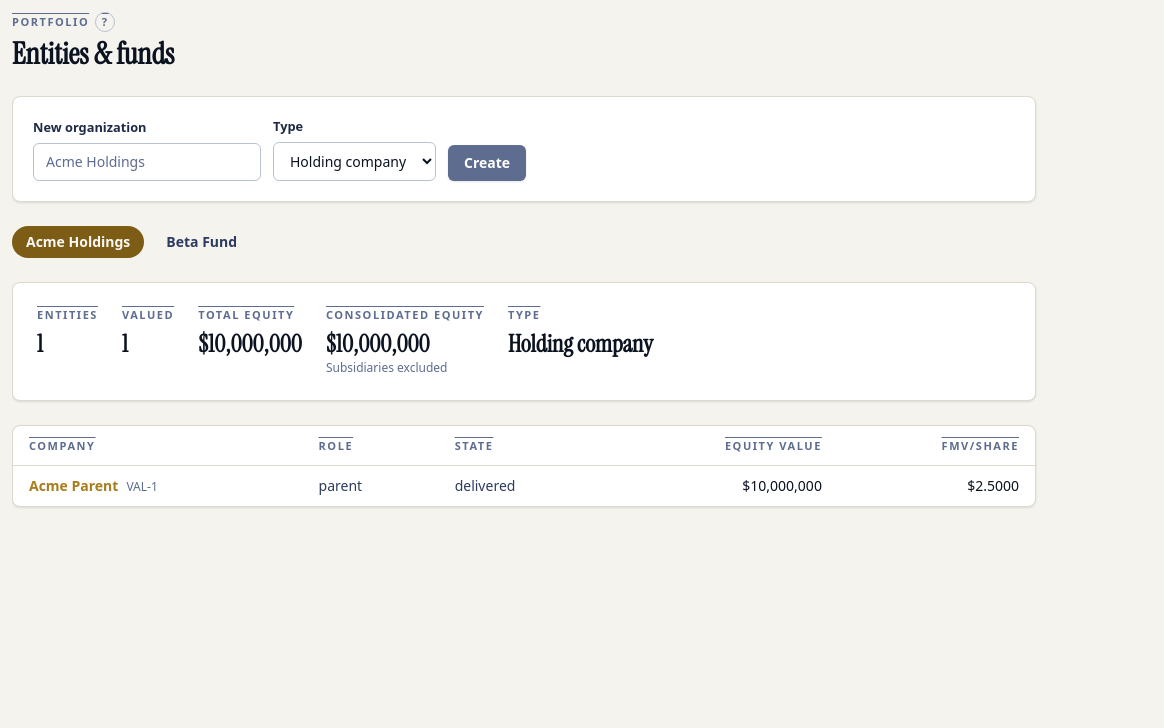
Scenario: PortfolioPage — creating an organization › switches the roll-up when another organization is picked
Click the button "Beta Fund" at (202, 242), box [152, 226, 251, 258]
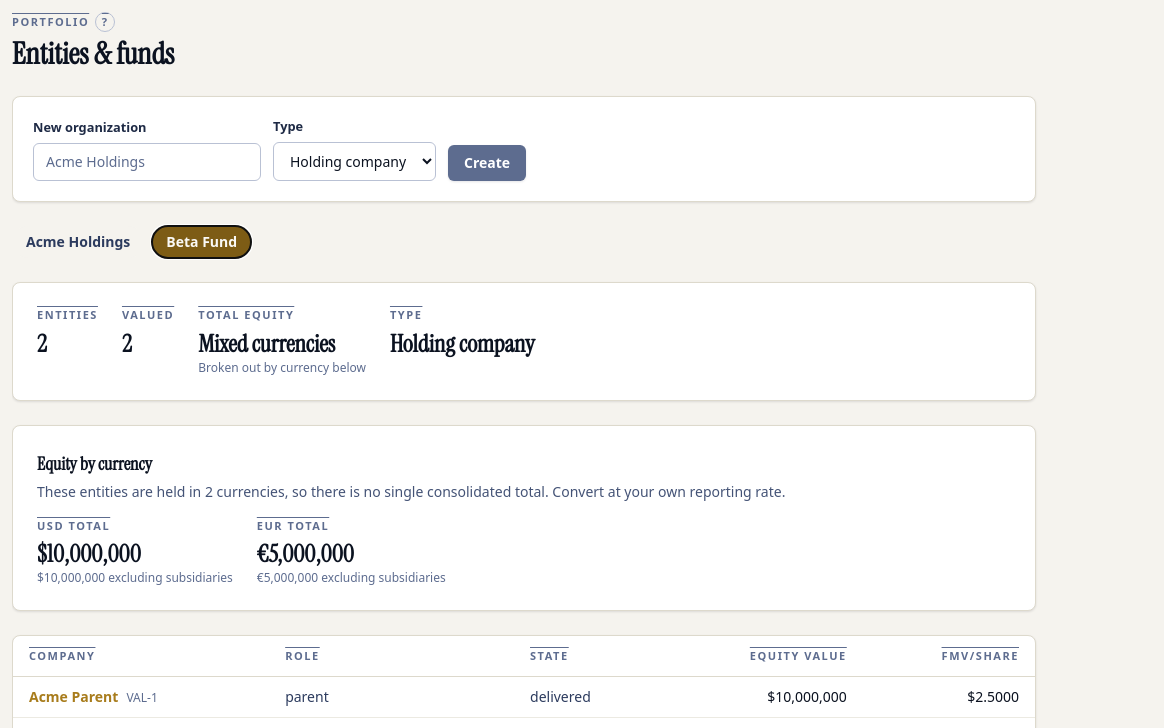
Expected: the text "Mixed currencies" is shown, [198, 328, 335, 359]
